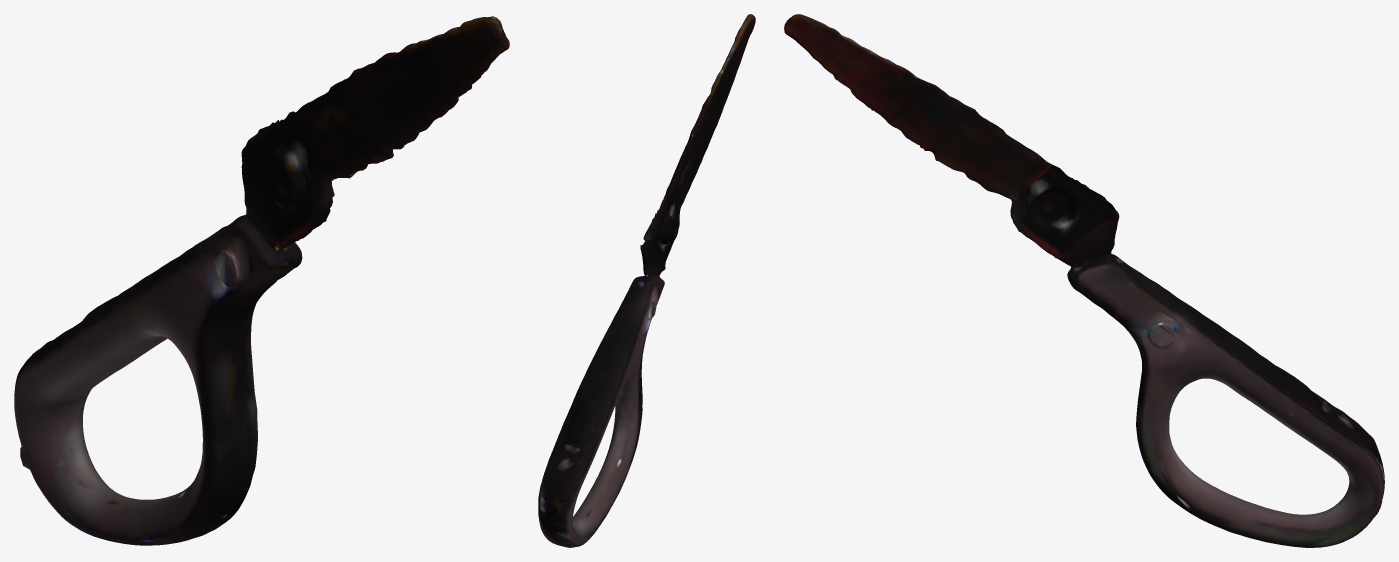
Rendered from scan.obj.
The picture shows the model from 3 angles, left to right: view 1: azimuth 30°, elevation 25°; view 2: azimuth 150°, elevation 25°; view 3: azimuth 270°, elevation 25°; orthographic projection. The views are drawn at different scales.
Visible parts, largest first — view 1: scan.ply; view 2: scan.ply; view 3: scan.ply.
Boxes of the visible parts, bbox=[...] form: scan.ply: bbox=[14, 16, 509, 545]; scan.ply: bbox=[538, 14, 755, 547]; scan.ply: bbox=[784, 14, 1384, 547].
Size of the model in its own units: 0.0134 by 0.1281 by 0.1297.
